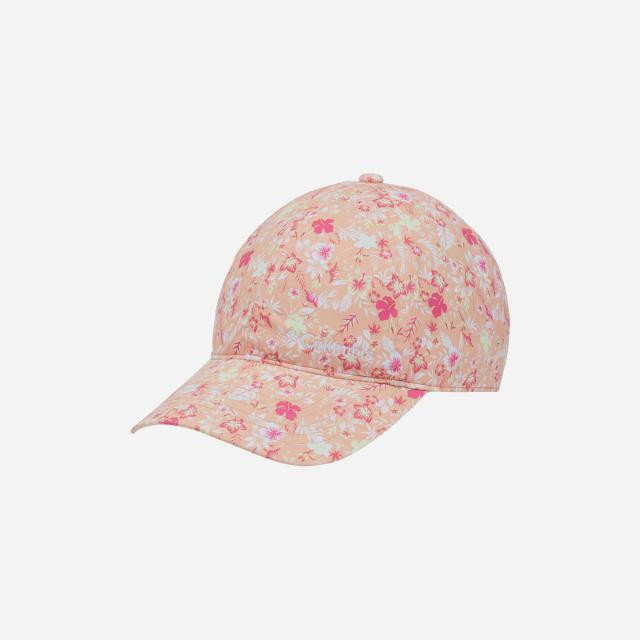Nonhelmet: (128, 171, 512, 468)
